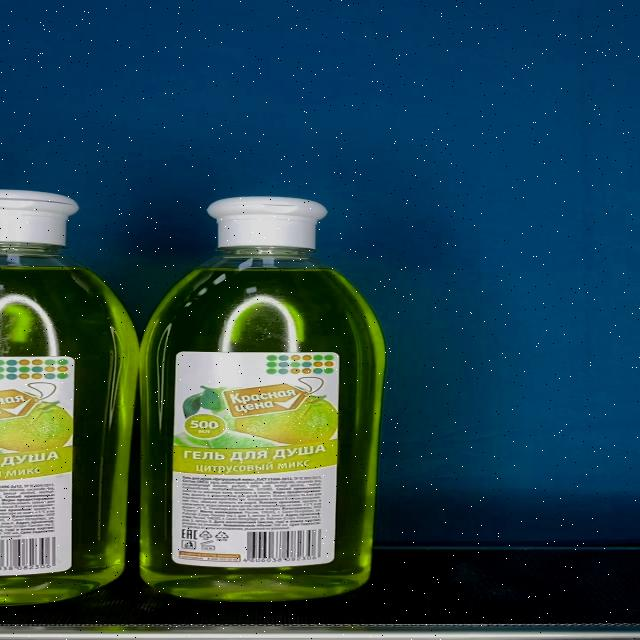Bottle: (139, 196, 385, 601)
Cap: (206, 196, 327, 249)
